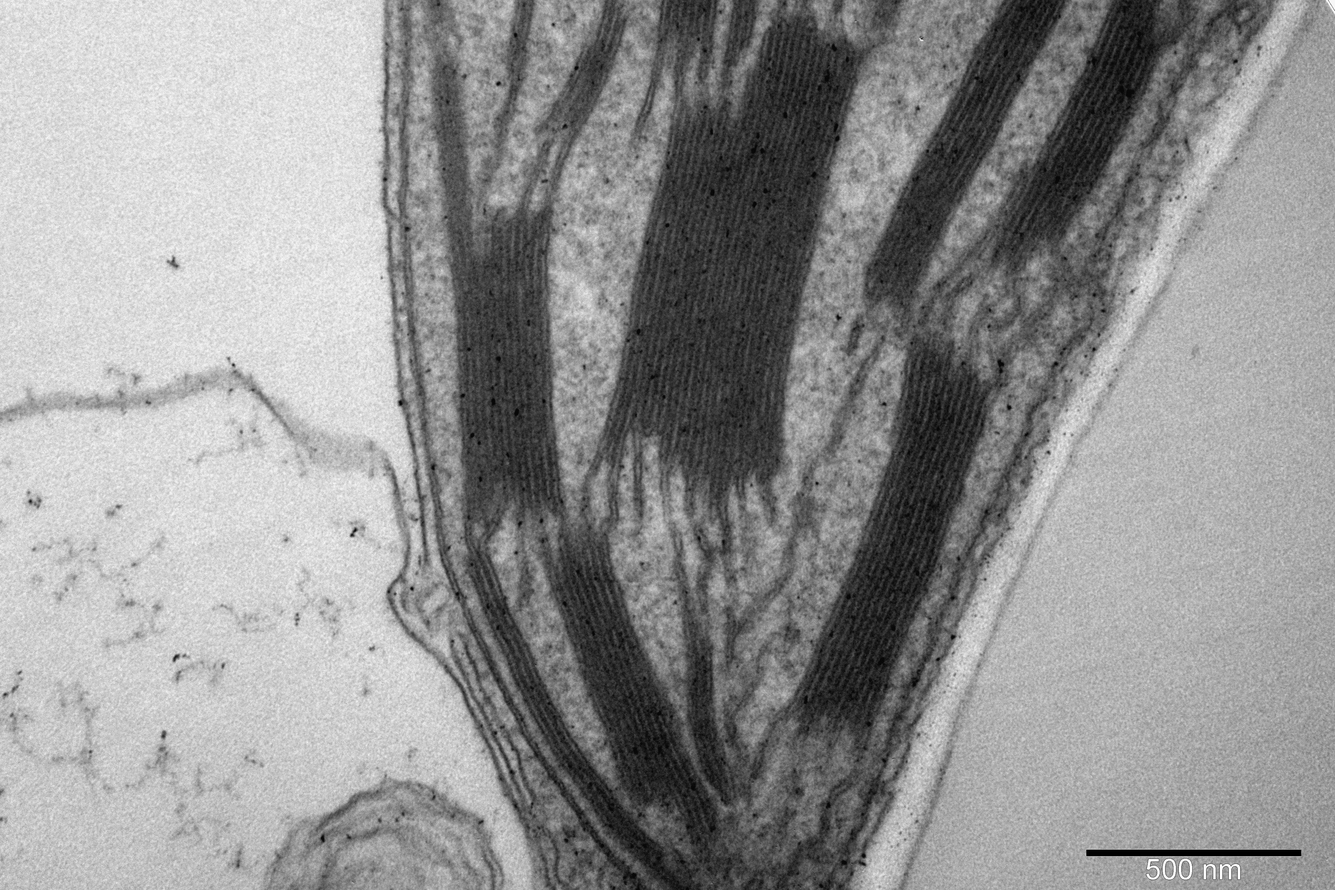granum: (591, 11, 861, 488), (769, 338, 994, 742), (454, 547, 672, 878), (852, 0, 1079, 313), (423, 55, 572, 528), (536, 532, 734, 855), (988, 0, 1169, 269), (527, 0, 646, 151), (682, 636, 742, 801), (653, 0, 722, 46), (723, 0, 763, 51)
